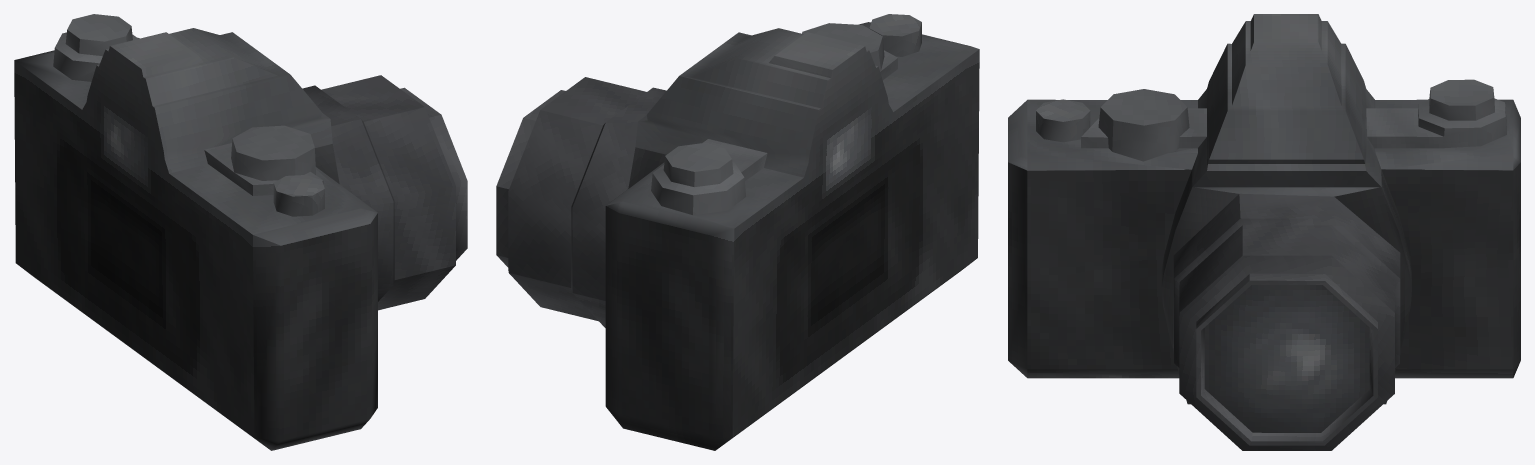
The picture shows the model from 3 angles, left to right: view 1: azimuth 30°, elevation 25°; view 2: azimuth 150°, elevation 25°; view 3: azimuth 270°, elevation 25°; orthographic projection. The views are drawn at different scales.
Visible parts, largest first — view 1: M_Camera; view 2: M_Camera; view 3: M_Camera.
Boxes of the visible parts, left/top/right/bottom form: M_Camera: left=14, top=14, right=467, bottom=450; M_Camera: left=496, top=14, right=979, bottom=450; M_Camera: left=1008, top=14, right=1520, bottom=450.
Bounding box in the file's own units: 0.0205 × 0.0199 × 0.0297.
1 material, 1 textured.
